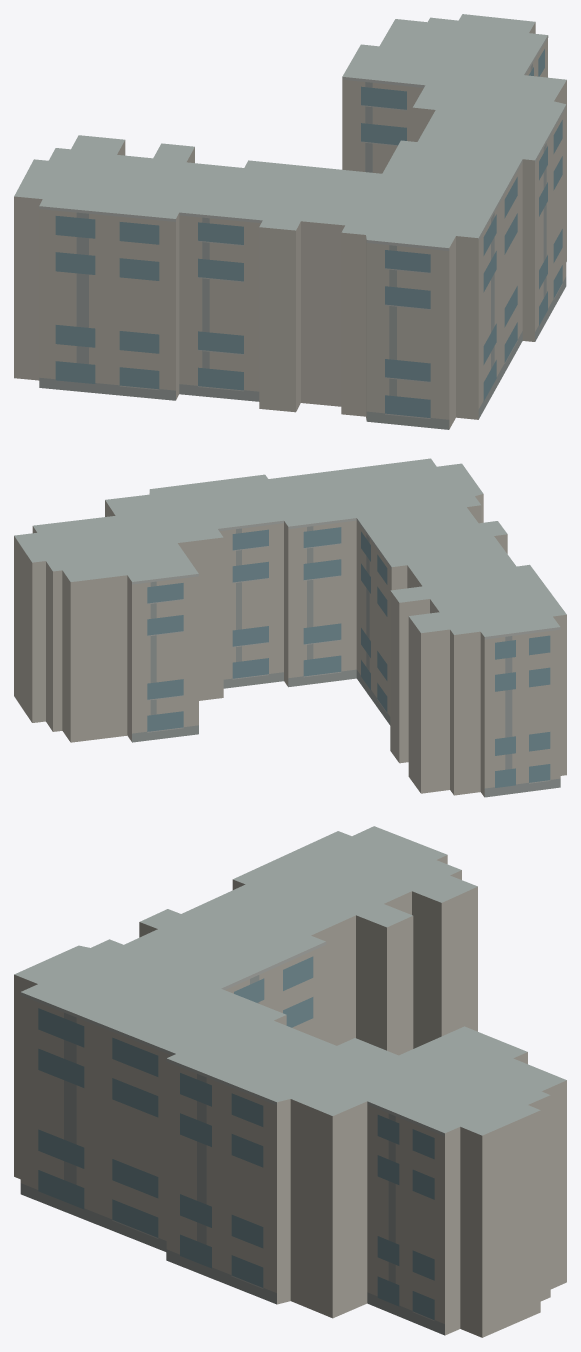
File: residential-f5e0b620-20bc-425e-9d38-e18a3522e7e1.glb
3 views of the same model, one above another, from view 1: azimuth 30°, elevation 25°; view 2: azimuth 150°, elevation 25°; view 3: azimuth 270°, elevation 25° (orthographic). The views are drawn at different scales.
Parts seen in each view (by area): view 1: residential-f5e0b620-20bc-425e-9d38-e18a3522e7e1.tmp; view 2: residential-f5e0b620-20bc-425e-9d38-e18a3522e7e1.tmp; view 3: residential-f5e0b620-20bc-425e-9d38-e18a3522e7e1.tmp.
Part boxes in pixels (bbox=[...]): residential-f5e0b620-20bc-425e-9d38-e18a3522e7e1.tmp: bbox=[14, 14, 566, 429]; residential-f5e0b620-20bc-425e-9d38-e18a3522e7e1.tmp: bbox=[14, 458, 566, 797]; residential-f5e0b620-20bc-425e-9d38-e18a3522e7e1.tmp: bbox=[14, 826, 566, 1337].
Size of the model in its own units: 50.08 by 15.25 by 37.8.
